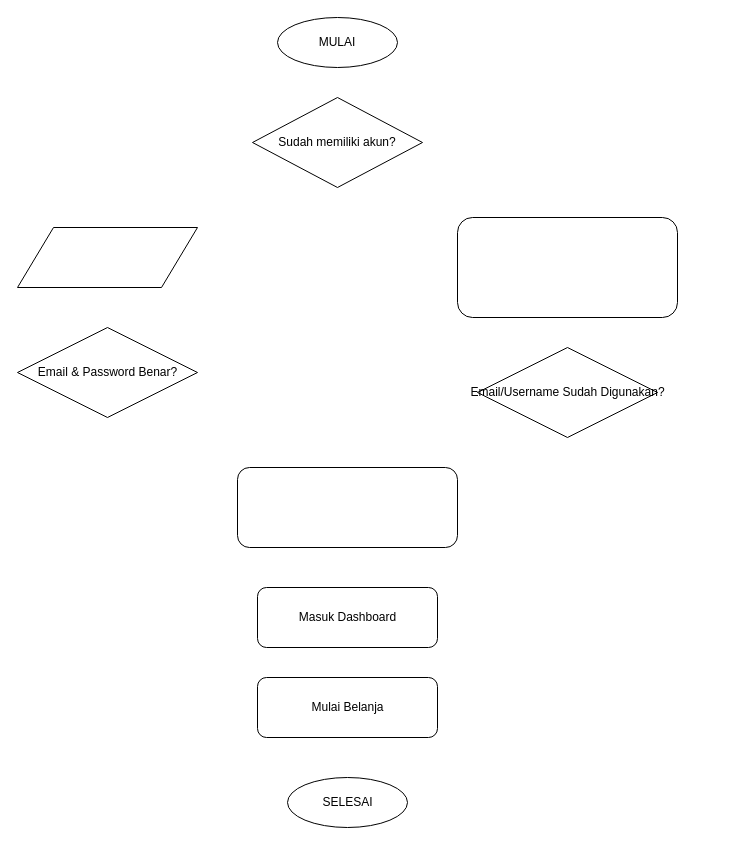
The diagram is 746 pixels wide and 845 high, and some of its shapes have lost their labels. The shapes that lost their labels are listed below. From the top down, each one's centre as x and y in pixels, then its label:
At (x=107, y=257): "Masukkan Email & Password".
At (x=567, y=267): "Registrasi Nama→Username→Email→TTL→HP→Password→Referral".
At (x=347, y=507): "Kirim OTP → Masukkan OTP → OTP Valid".
